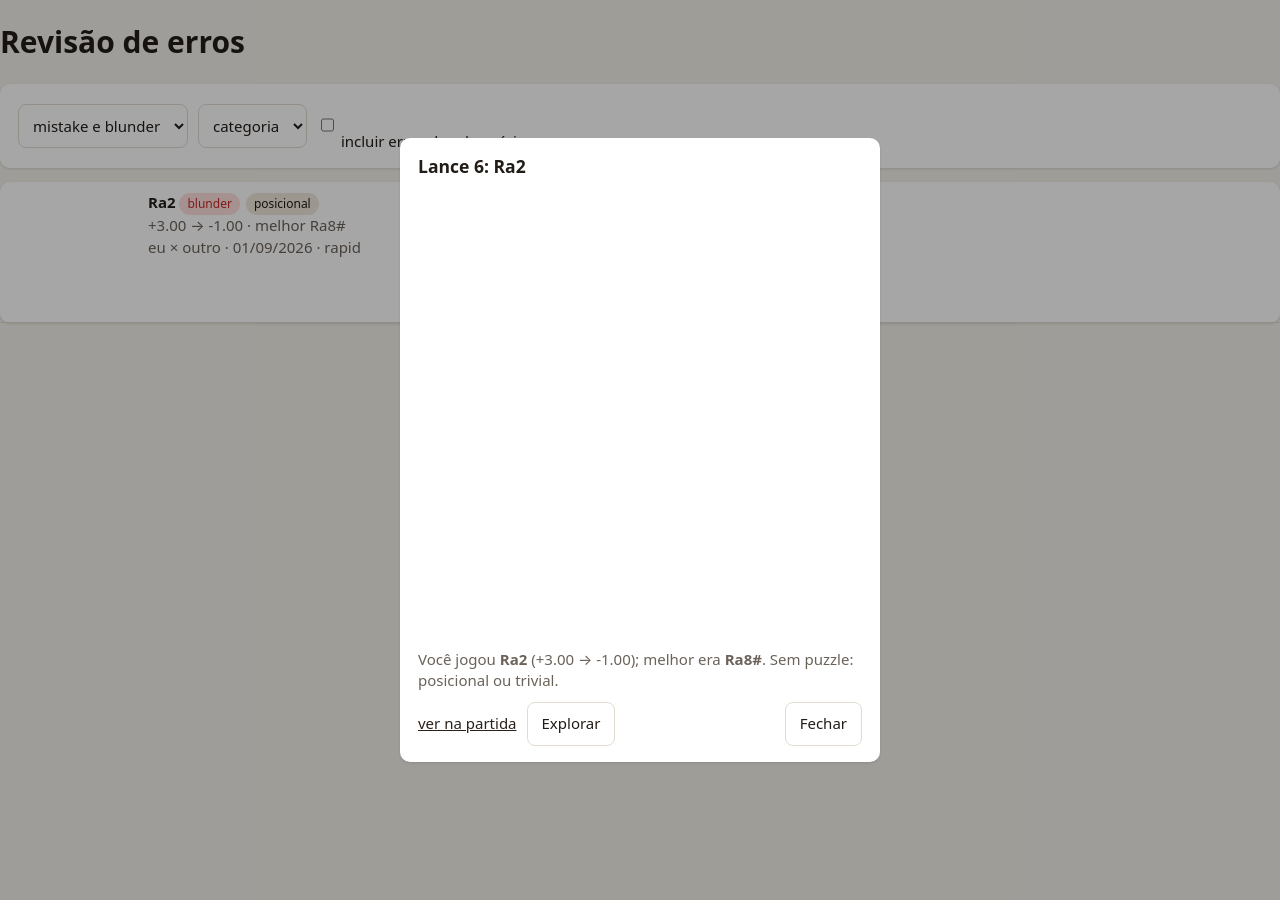
Test case: ?position=<fen> abre o modal do erro daquela posição
Expected: the heading "Lance 6: Ra2" is shown, [418,154,526,178]
Note: fechar não reabre
What coordinates should you click on to do the following:
click the button "Fechar"
I would click on:
 (823, 724)
Its box is [785,702,862,746].
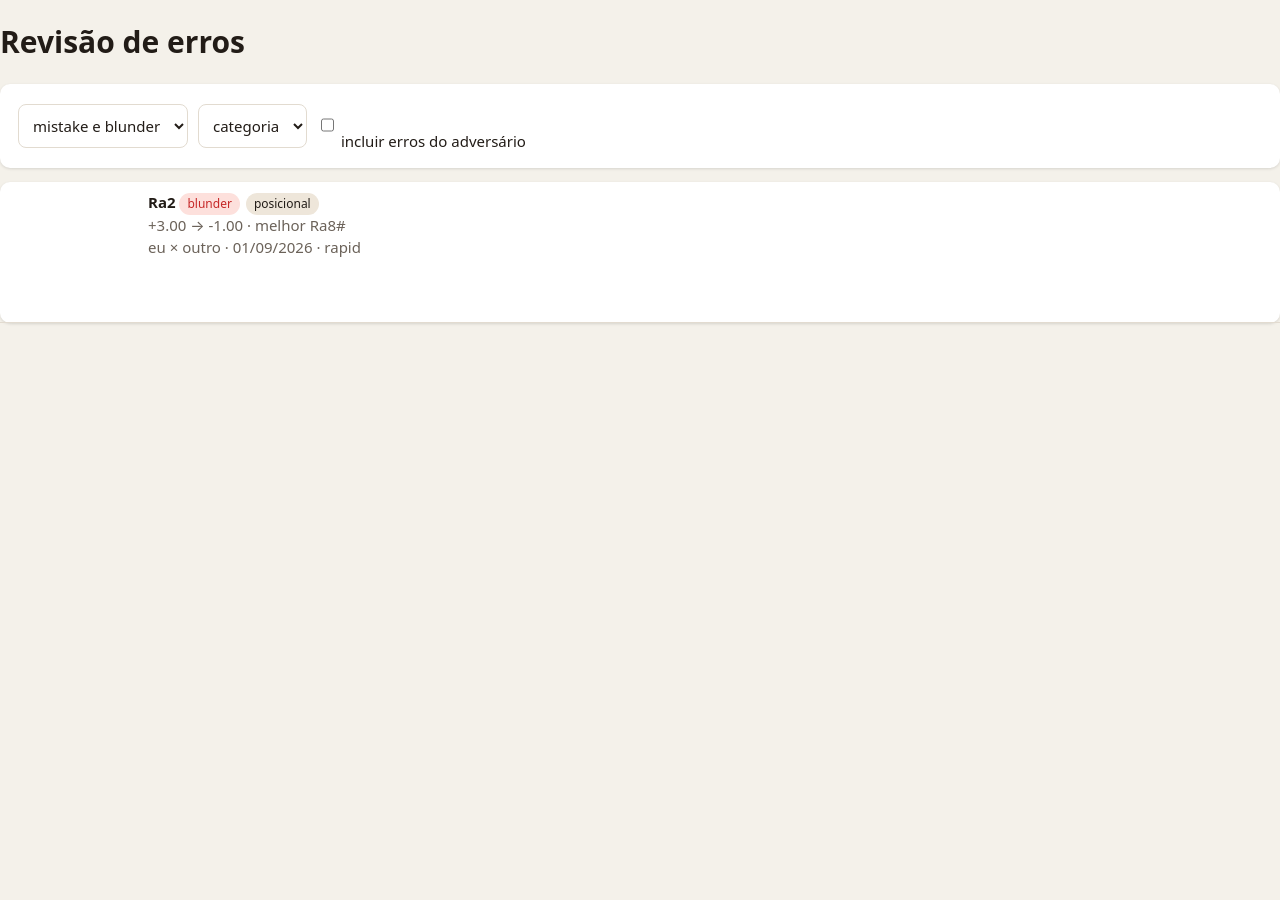
Expected: the heading "Lance 6: Ra2" is gone
